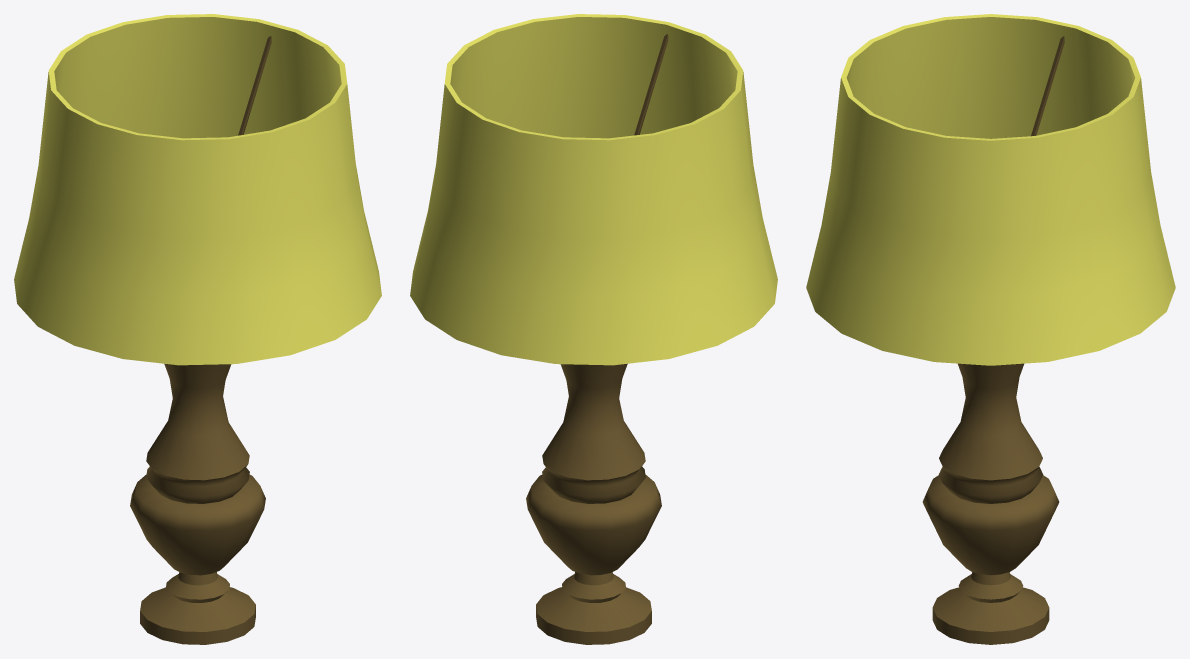
The model's file is Lampara.obj.
The picture shows the model from 3 angles, left to right: view 1: azimuth 30°, elevation 25°; view 2: azimuth 150°, elevation 25°; view 3: azimuth 270°, elevation 25°; orthographic projection.
Parts seen in each view (by area): view 1: Lampara:polySurface4; view 2: Lampara:polySurface4; view 3: Lampara:polySurface4.
Part boxes in pixels (x1,y1,x2,y2): Lampara:polySurface4: [14, 14, 381, 644]; Lampara:polySurface4: [410, 14, 777, 644]; Lampara:polySurface4: [806, 14, 1175, 644].
Size of the model in its own units: 1.99 by 3.22 by 1.99.
1 material, 1 textured.
